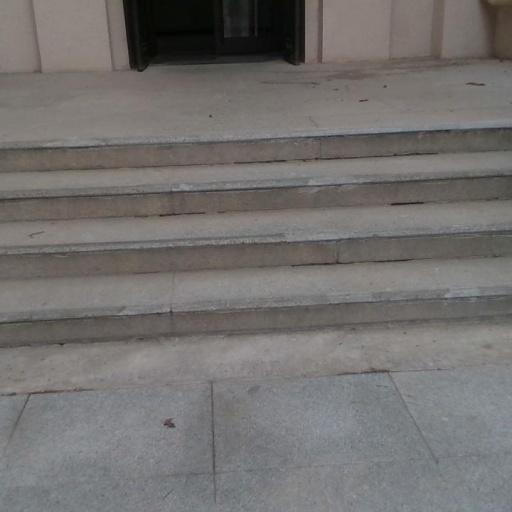stairs: (0, 129, 511, 346)
